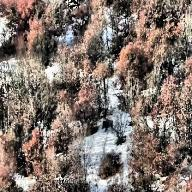boar: (100, 112, 117, 134)
